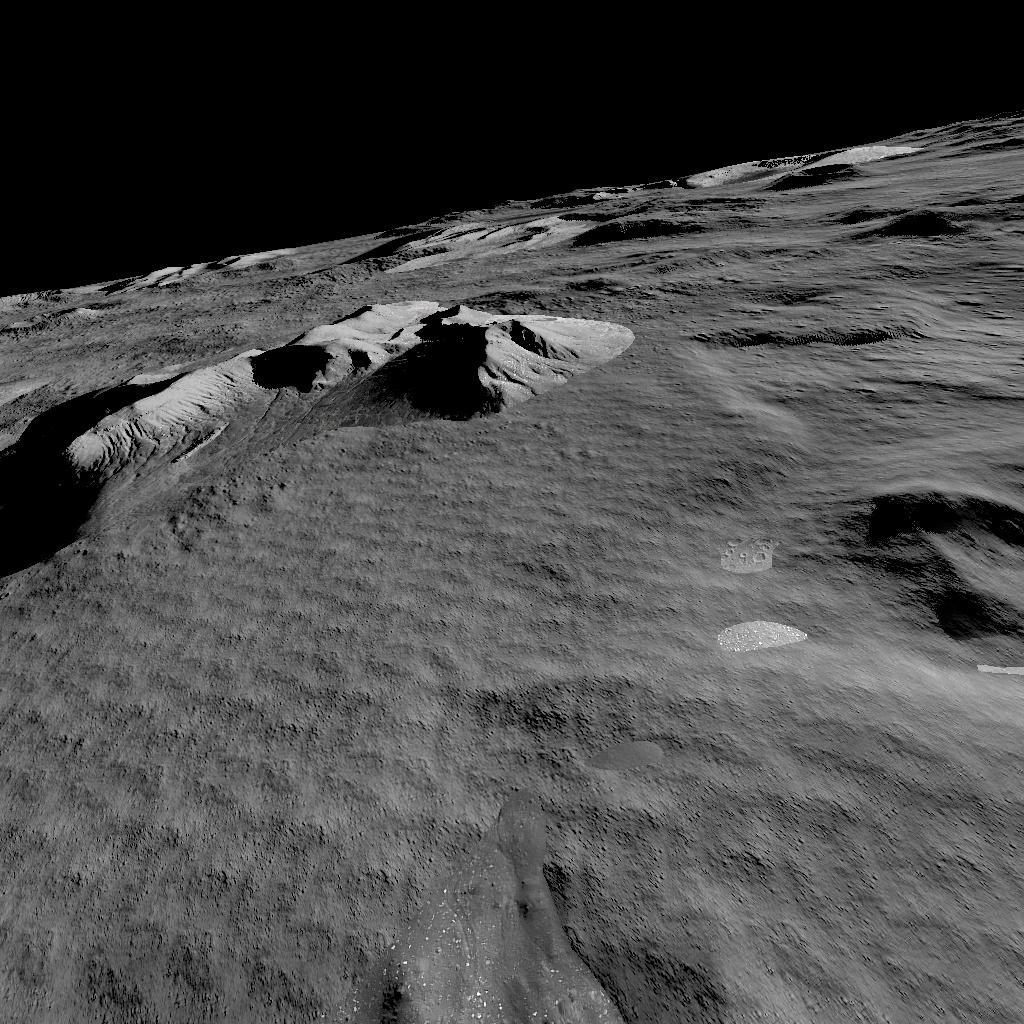Boulders: (10, 292, 644, 548), (368, 114, 1017, 264), (112, 237, 319, 284)
Crater: (0, 948, 1024, 1024), (843, 476, 1024, 648), (677, 302, 934, 368)
Plan surface: (2, 589, 820, 914)
